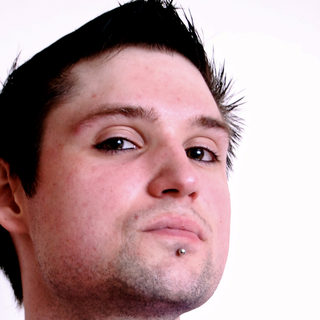eye: (82, 125, 147, 160), (179, 132, 225, 175)
